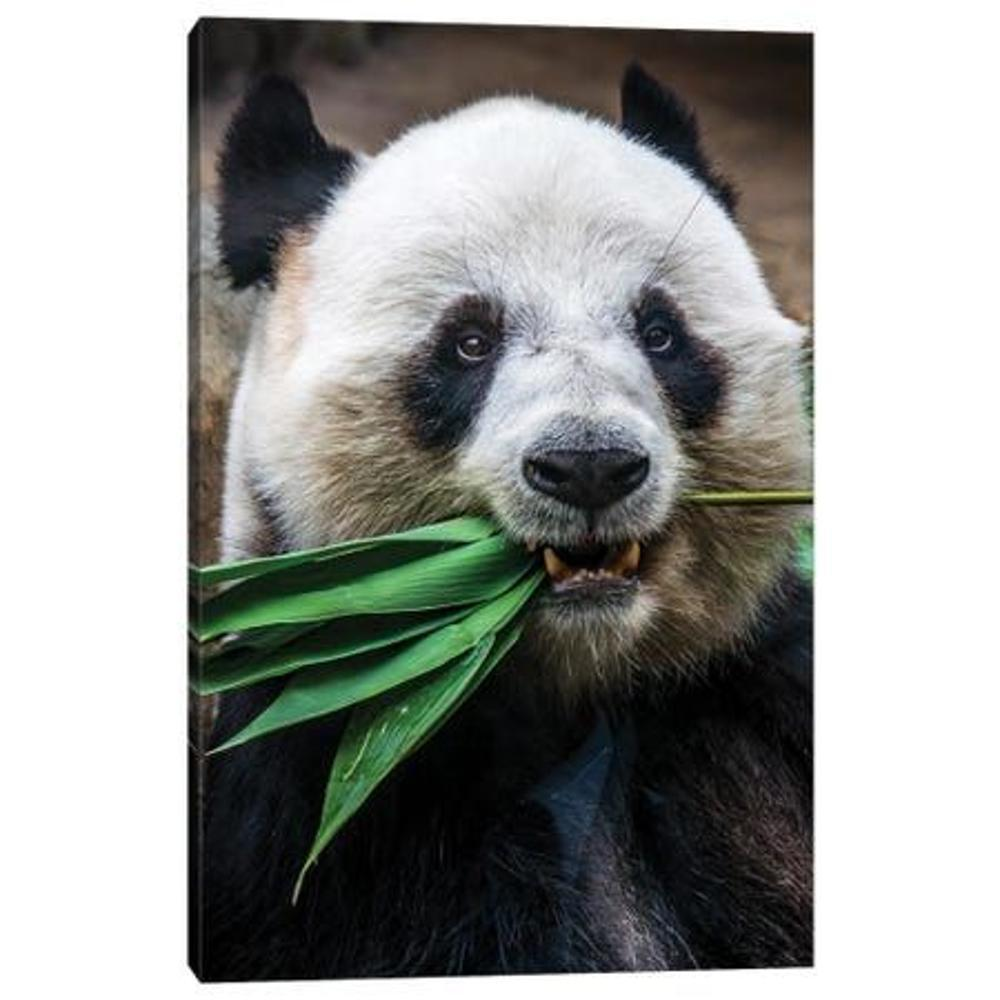panda: (226, 64, 810, 904)
